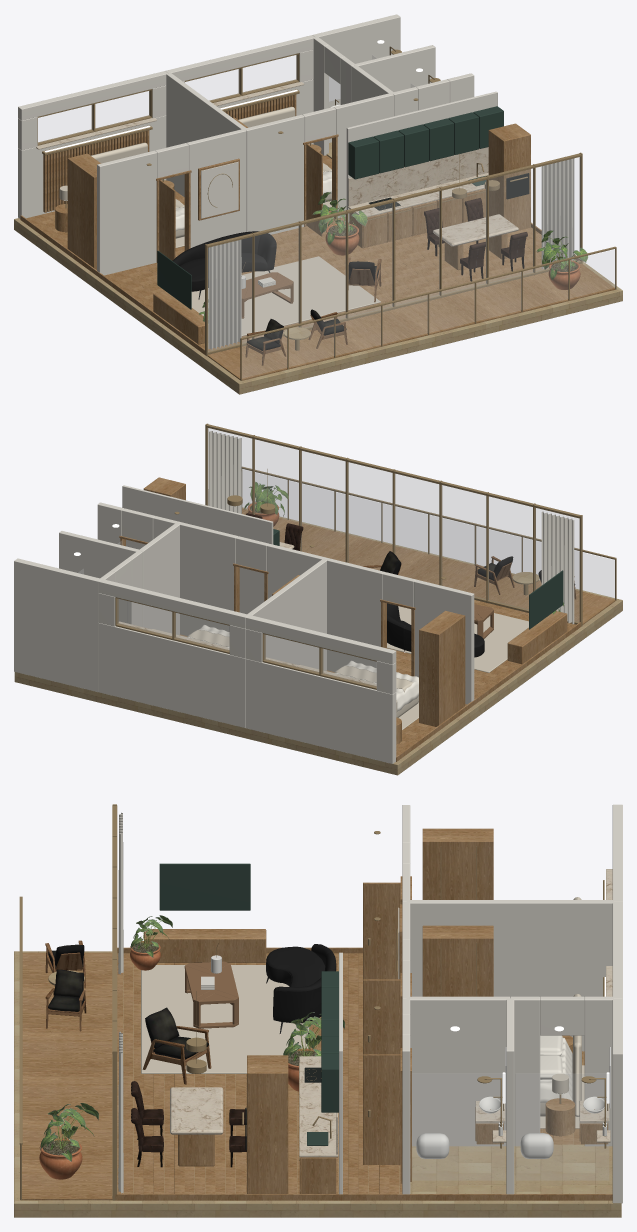
File: A0302-balanced.glb
3 renders of one model, top to bottom at view 1: azimuth 30°, elevation 25°; view 2: azimuth 150°, elevation 25°; view 3: azimuth 270°, elevation 25°, orthographic. The views are drawn at different scales.
Visible parts, largest first — view 1: A0302 / material batches, potted_plant_02_leaves.001, potted_plant_02_leaves.003, potted_plant_02_pot.001; view 2: A0302 / material batches, potted_plant_02_leaves.003; view 3: A0302 / material batches, potted_plant_02_leaves.003, potted_plant_02_leaves.001, potted_plant_02_pot.003, potted_plant_02_leaves.002.
Boxes of the visible parts, <box> form: A0302 / material batches: <box>14,14,622,394</box>; potted_plant_02_leaves.001: <box>312,192,367,245</box>; potted_plant_02_leaves.003: <box>536,230,588,280</box>; potted_plant_02_pot.001: <box>325,223,359,255</box>; A0302 / material batches: <box>14,423,622,775</box>; potted_plant_02_leaves.003: <box>244,481,288,516</box>; A0302 / material batches: <box>14,804,622,1217</box>; potted_plant_02_leaves.003: <box>40,1103,98,1161</box>; potted_plant_02_leaves.001: <box>283,1012,345,1061</box>; potted_plant_02_pot.003: <box>39,1138,82,1179</box>; potted_plant_02_leaves.002: <box>130,915,172,957</box>.
Bounding box in the file's own units: 10.5 × 3.18 × 10.71.
23 materials, 9 textured.
